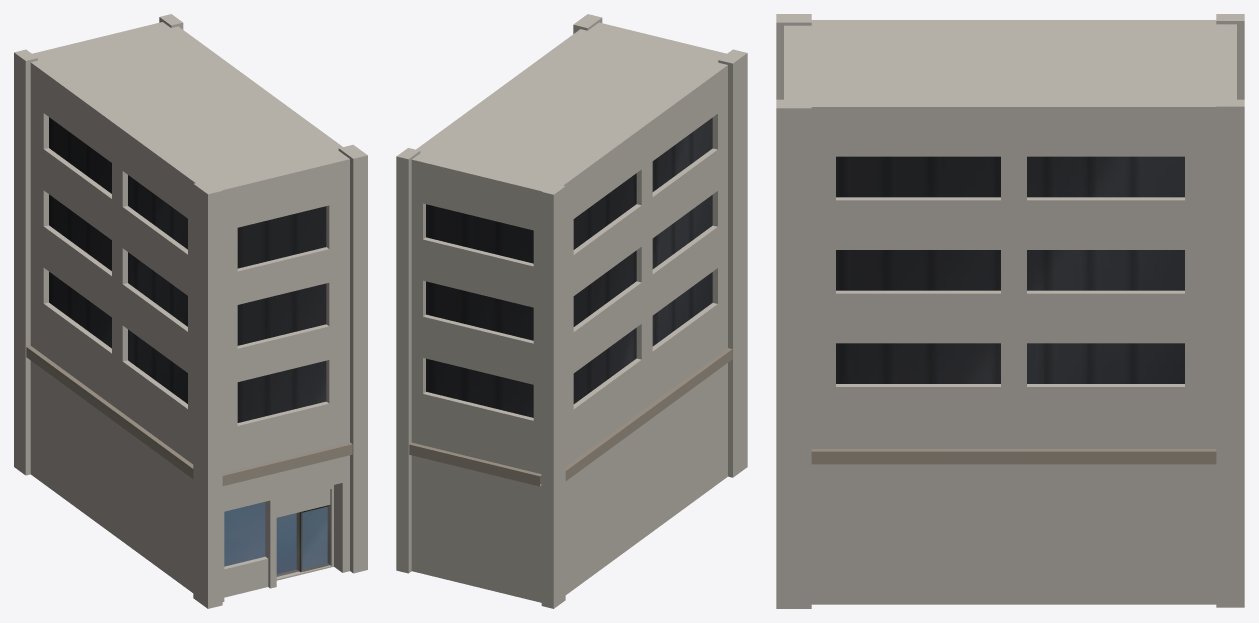
Rendered from Bld_Building_E.fbx.
3 views of the same model, side by side, from view 1: azimuth 30°, elevation 25°; view 2: azimuth 150°, elevation 25°; view 3: azimuth 270°, elevation 25° (orthographic). The views are drawn at different scales.
Visible parts, largest first — view 1: Bld_Building_E; view 2: Bld_Building_E; view 3: Bld_Building_E.
Boxes of the visible parts, left/top/right/bottom form: Bld_Building_E: left=14, top=14, right=367, bottom=608; Bld_Building_E: left=396, top=14, right=747, bottom=608; Bld_Building_E: left=776, top=14, right=1244, bottom=608.
Size of the model in its own units: 650 by 1610 by 1365.
